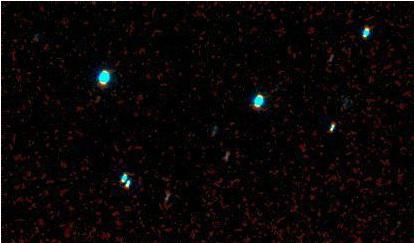star: (217, 137, 247, 167)
